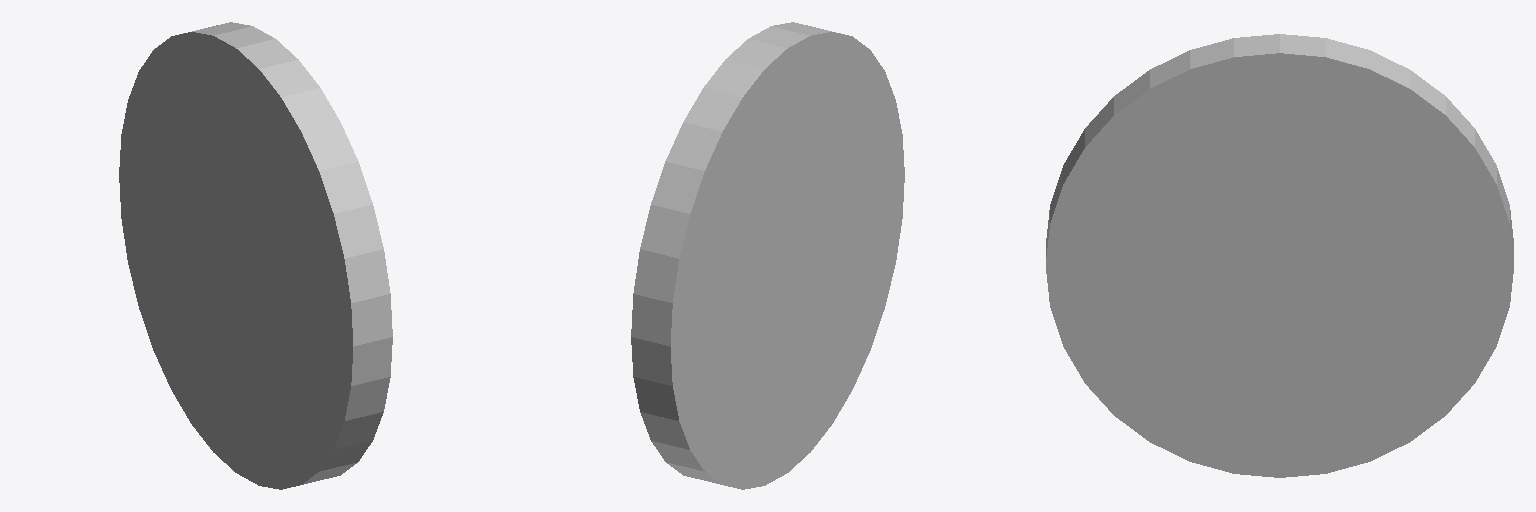
The model's file is coin.obj.
3 views of the same model, side by side, from view 1: azimuth 30°, elevation 25°; view 2: azimuth 150°, elevation 25°; view 3: azimuth 270°, elevation 25° (orthographic).
Visible parts, largest first — view 1: Circle; view 2: Circle; view 3: Circle.
Boxes of the visible parts, x1=… form: Circle: x1=119, y1=22, x2=392, y2=489; Circle: x1=631, y1=22, x2=904, y2=489; Circle: x1=1046, y1=34, x2=1513, y2=477.
Bounding box in the file's own units: 0.0972 × 1 × 1.